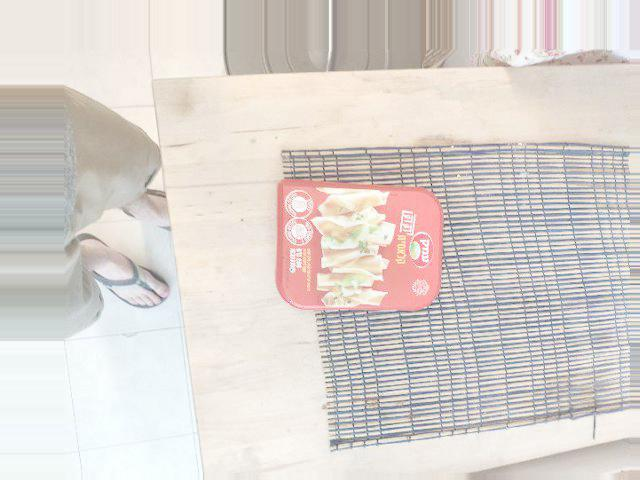cheese: (334, 247, 477, 399)
